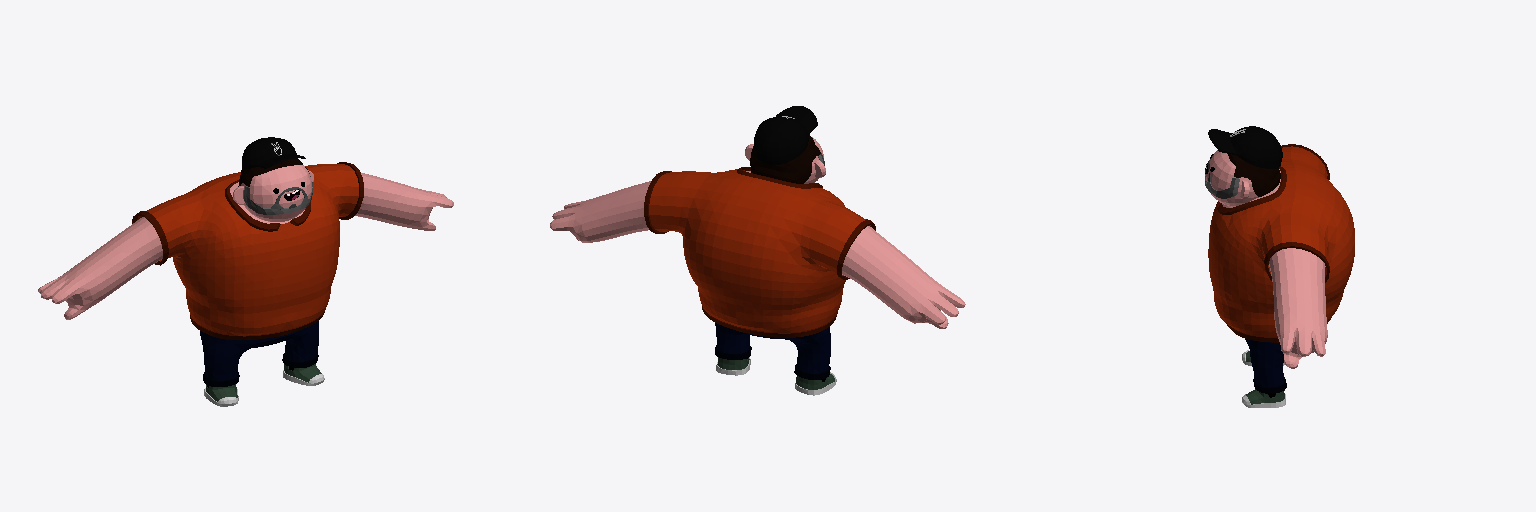
The model's file is ShawnObj.obj.
The picture shows the model from 3 angles: view 1: azimuth 30°, elevation 25°; view 2: azimuth 150°, elevation 25°; view 3: azimuth 270°, elevation 25°; orthographic projection.
Parts seen in each view (by area): view 1: Socks_Mesh_Shawn1; view 2: Socks_Mesh_Shawn1; view 3: Socks_Mesh_Shawn1.
Part boxes in pixels (x1,y1,x2,y2): Socks_Mesh_Shawn1: (38, 137, 453, 406); Socks_Mesh_Shawn1: (550, 106, 965, 395); Socks_Mesh_Shawn1: (1205, 126, 1354, 407).
Bounding box in the file's own units: 13.11 × 7.78 × 4.22.